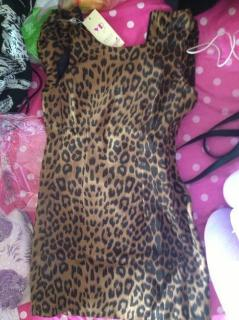vest: (30, 7, 211, 319)
